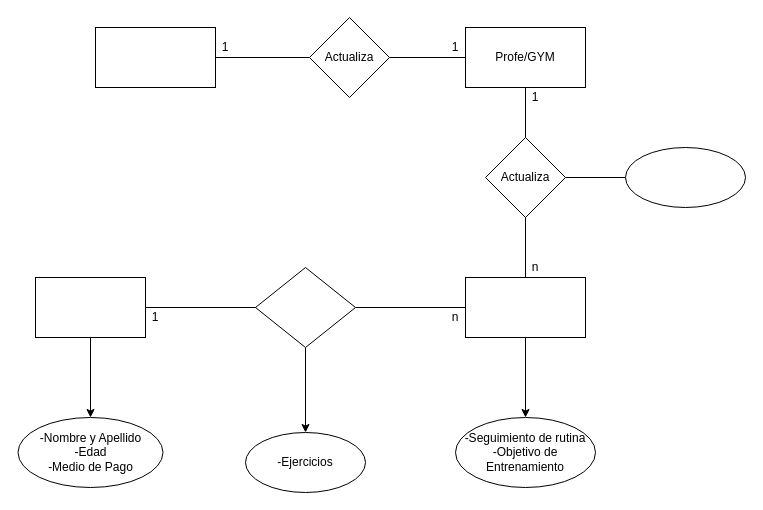
Some shapes in this 763 by 510 pixel diagram are drawn without their labels. Here are the shapes that lost their labels. From the top down, the centre of each, then its label:
the point at 90,307: Clientes
the point at 305,307: Realiza
the point at 525,307: Sesión
